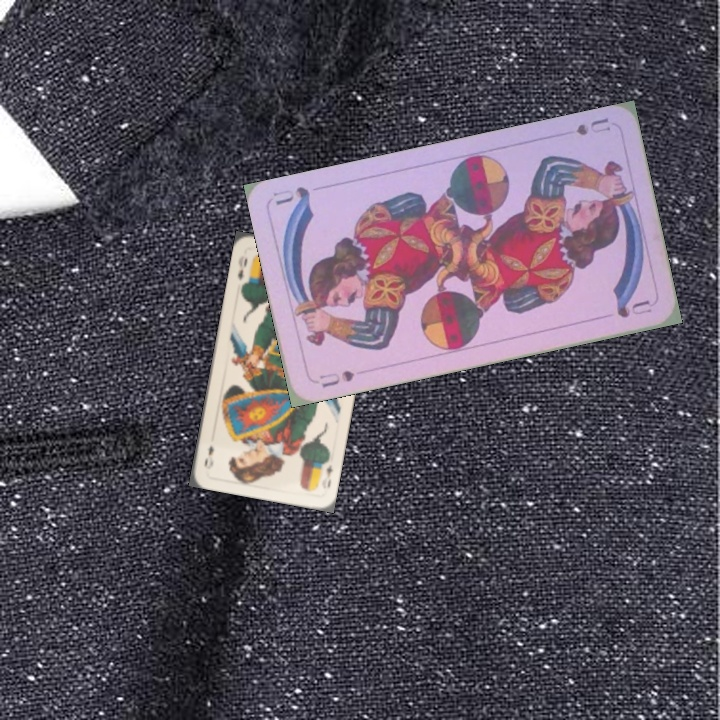EO: (317, 455, 335, 490), (234, 254, 250, 284)
SU: (572, 114, 613, 139), (315, 366, 357, 390)
